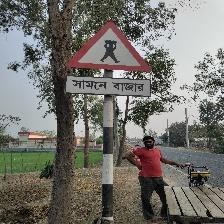Market-in-front: (64, 19, 153, 98)
